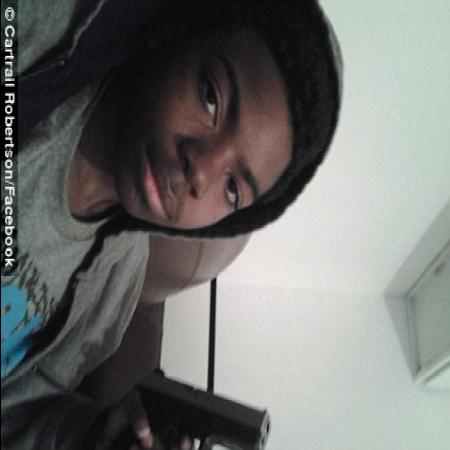Pistol: (126, 364, 274, 448)
